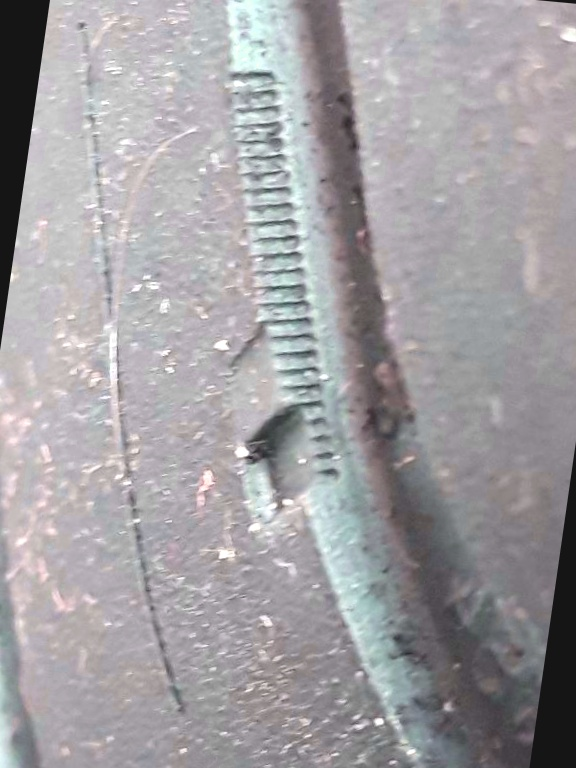temoin:25: (189, 300, 378, 550)
